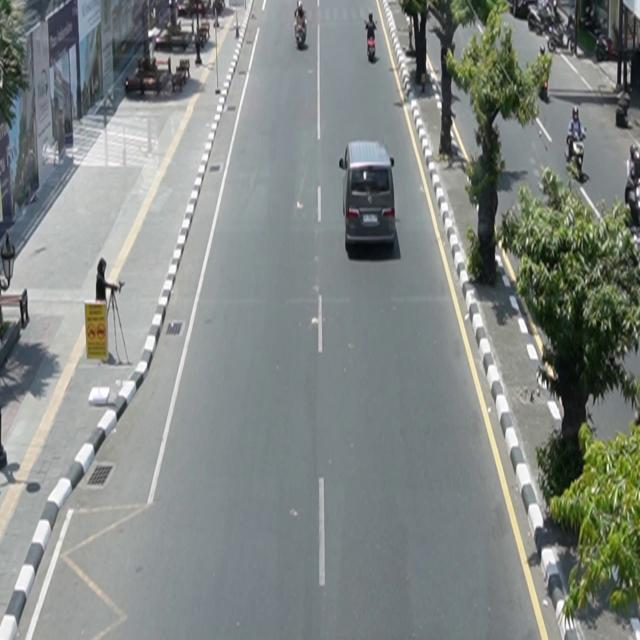car: (340, 141, 397, 253)
